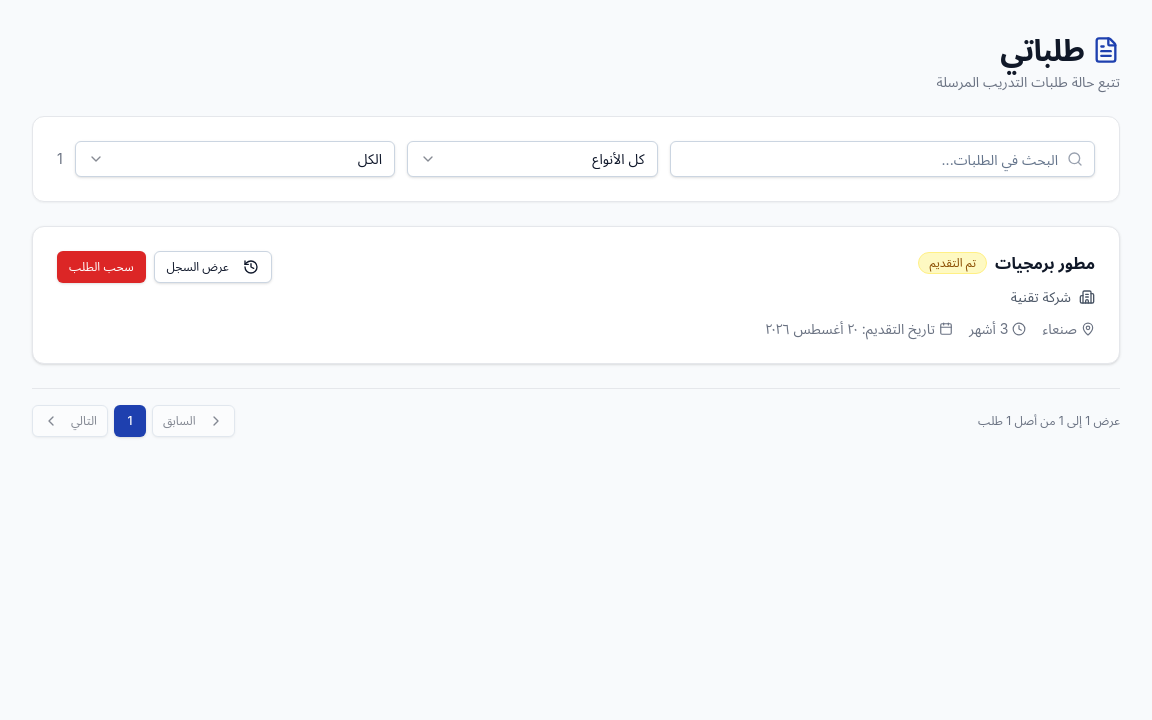
Scenario: MyApplicationsPage — Withdraw flow (TEP-641/642) › opens the confirmation dialog with a reapply note when Withdraw is clicked
Click the button "سحب الطلب" at (101, 267), box [57,251,146,283]
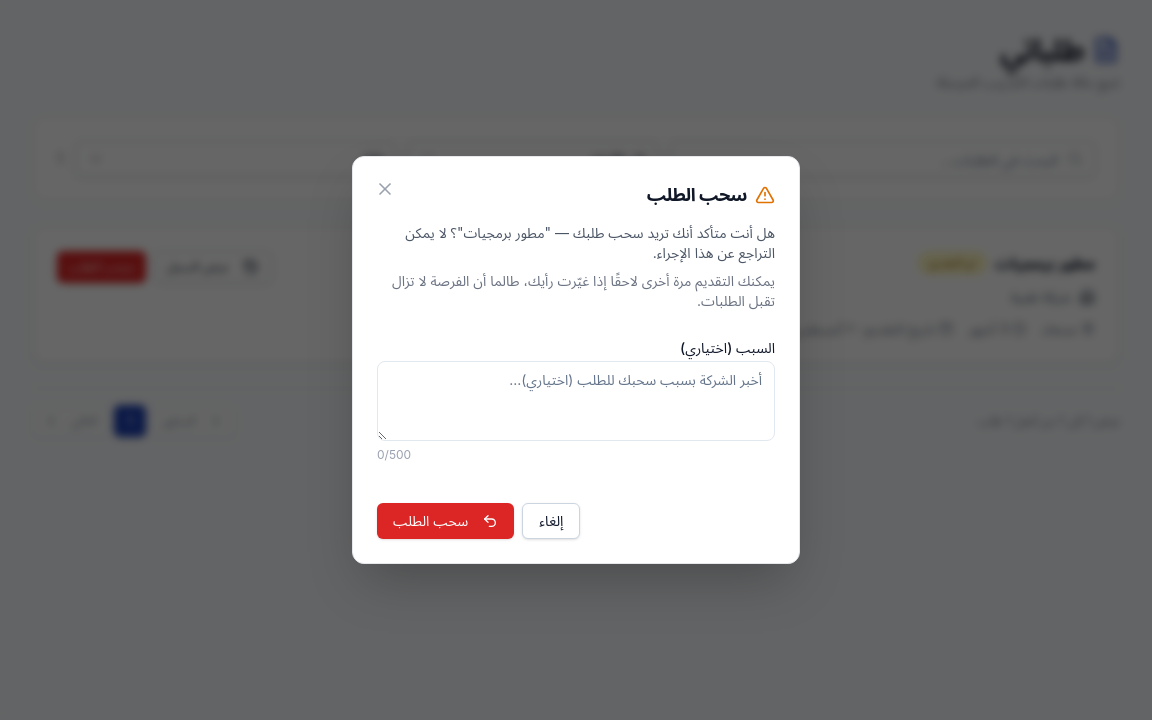
Now the text "يمكنك التقديم مرة أخرى لاحقًا إذا غيّرت رأيك" is shown, box [392,272,775,309]
